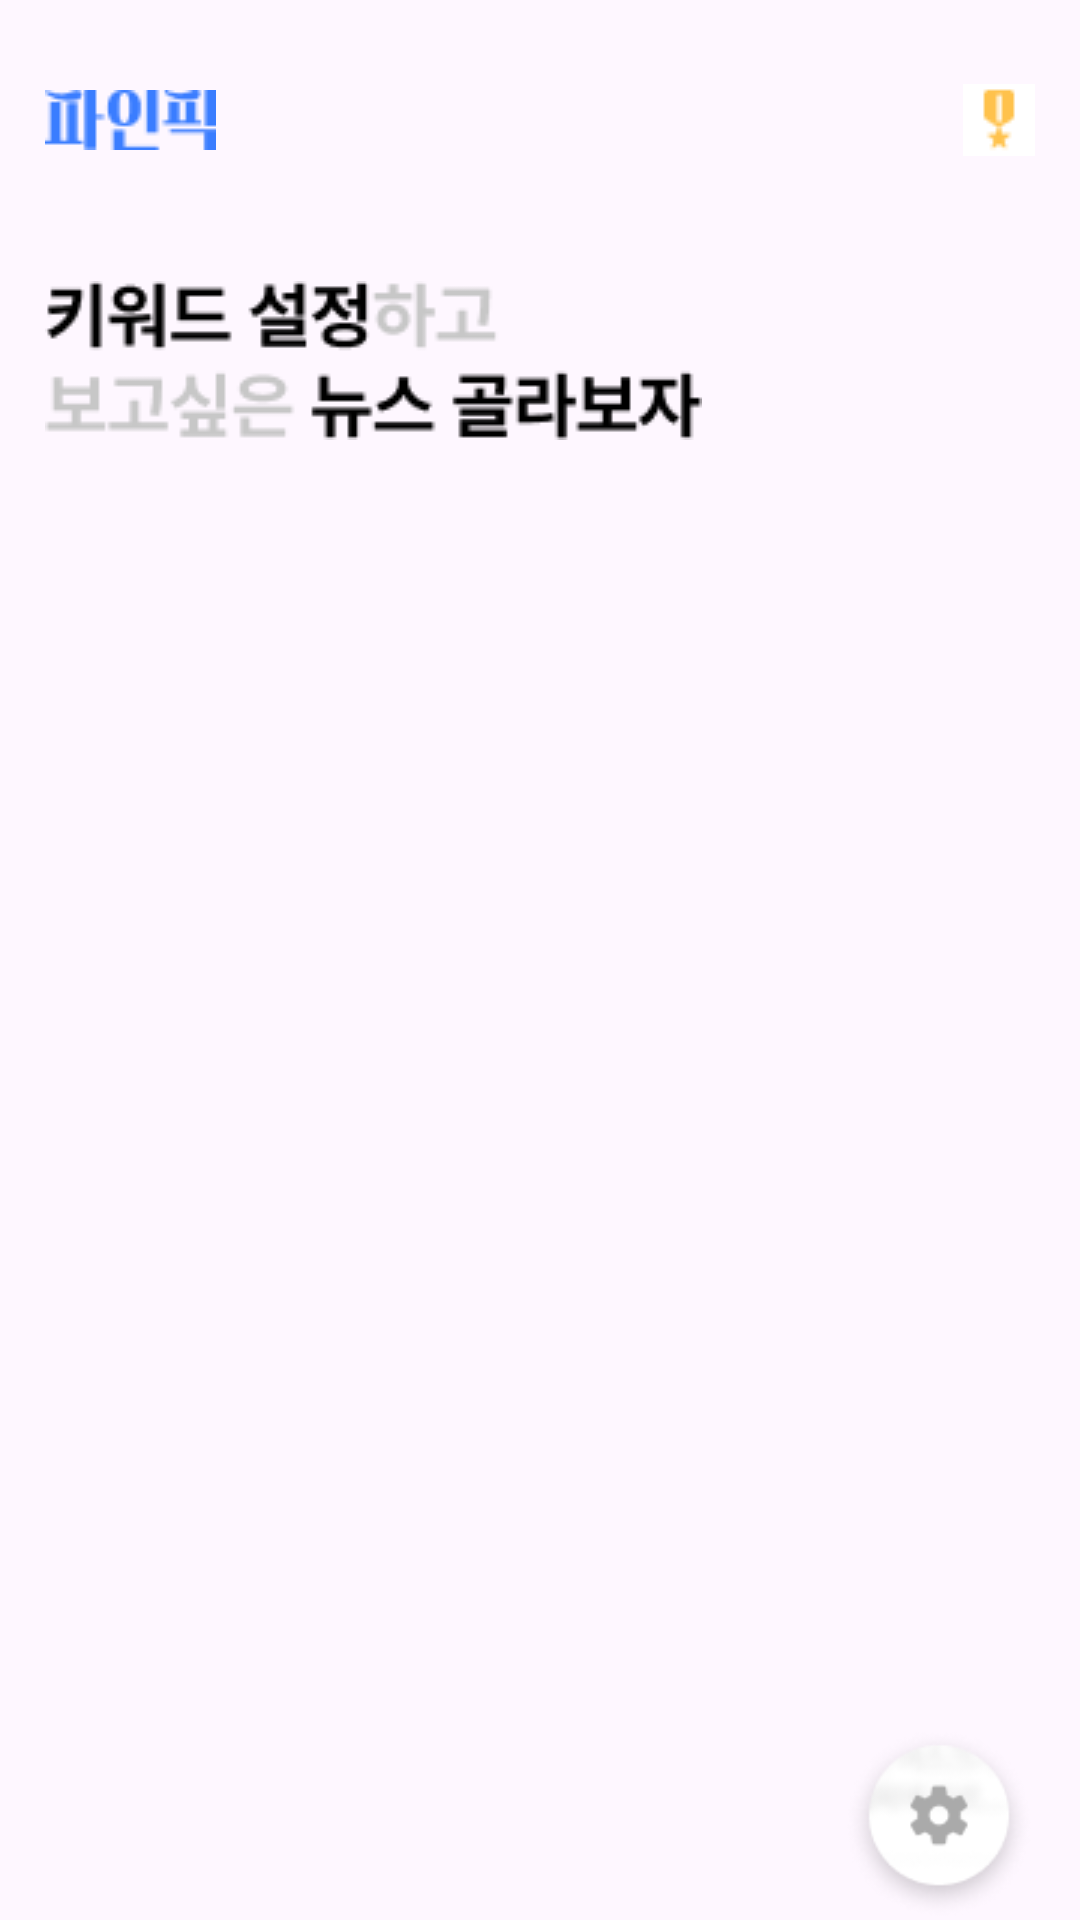

Screen size 1080px x 1920px. Icon name, then its box in pixels as bbox(x1, y1, x2, y2):
badge: bbox(983, 89, 1015, 148)
